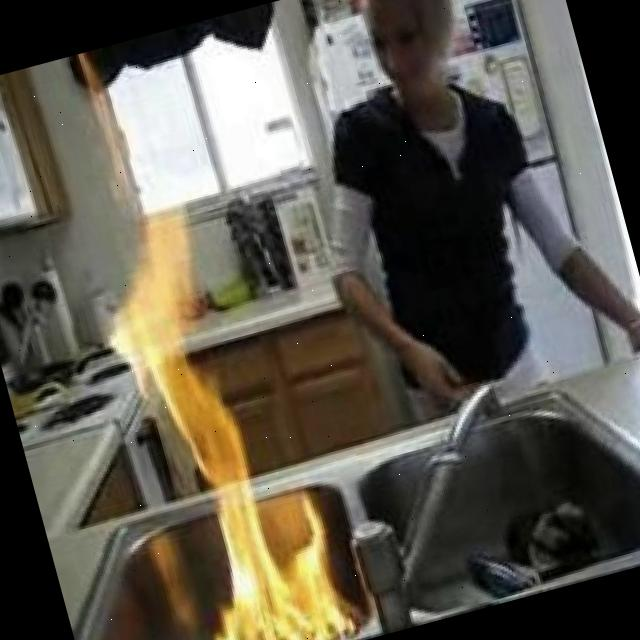fire: (75, 174, 362, 640)
